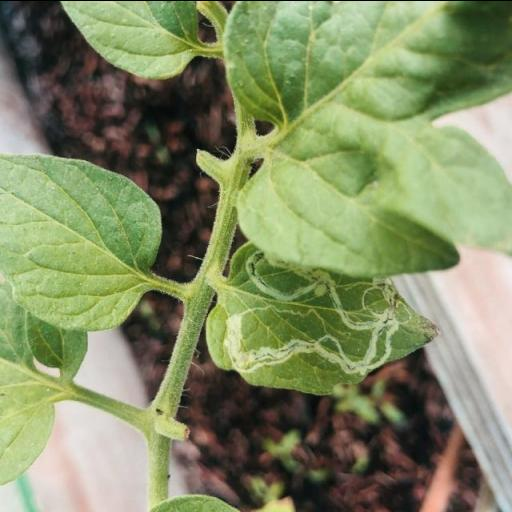disease_tomato: (202, 241, 438, 392)
